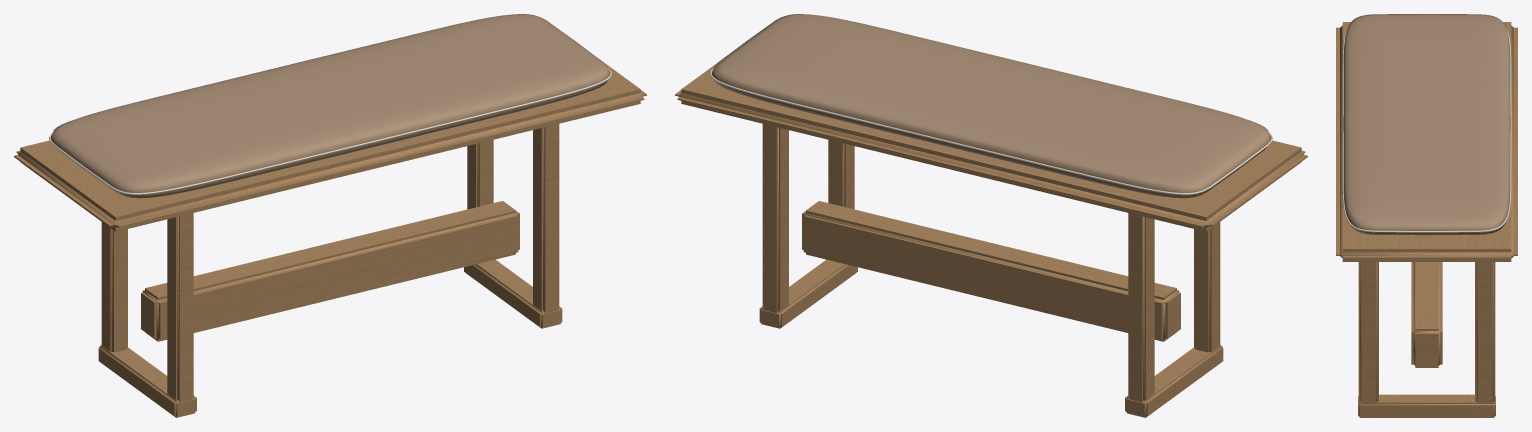
Rendered from country.bench.gltf.
3 renders of one model, left to right at view 1: azimuth 30°, elevation 25°; view 2: azimuth 150°, elevation 25°; view 3: azimuth 270°, elevation 25°, orthographic. The views are drawn at different scales.
Visible parts, largest first — view 1: country.bench.rounded-top; view 2: country.bench.rounded-top; view 3: country.bench.rounded-top.
Part boxes in pixels (x1,y1,x2,y2): country.bench.rounded-top: (14, 14, 646, 417); country.bench.rounded-top: (675, 14, 1307, 417); country.bench.rounded-top: (1336, 14, 1517, 417).
Bounding box in the file's own units: 1.15 × 0.5075 × 0.38.
3 materials, 2 textured.
